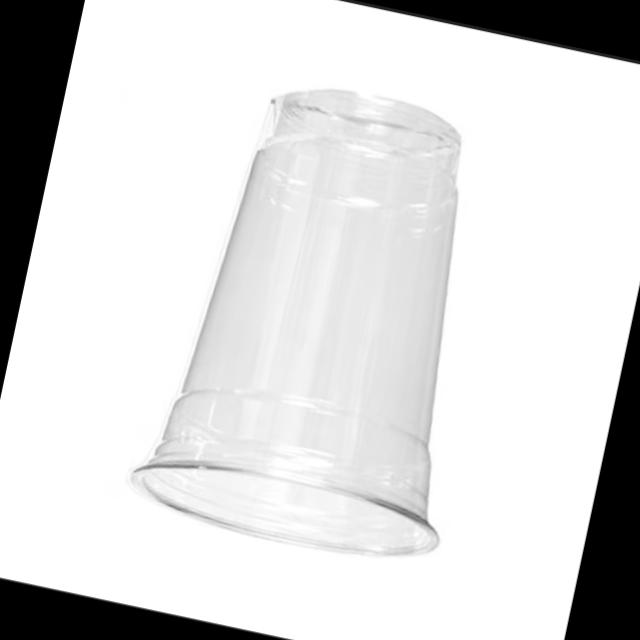GelasPlastik: (121, 59, 528, 577)
